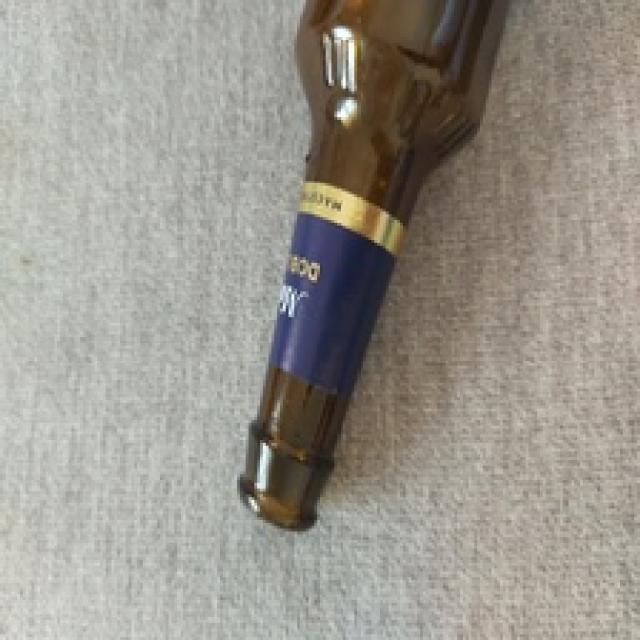Glass: (238, 0, 510, 534)
